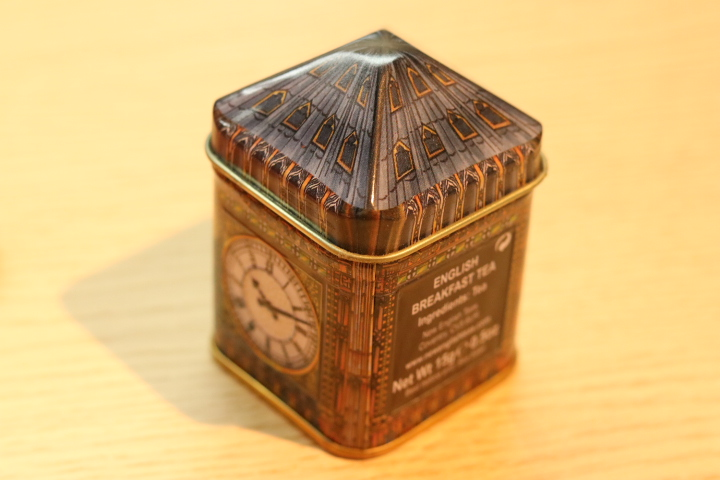Big Ben: (179, 10, 569, 467)
